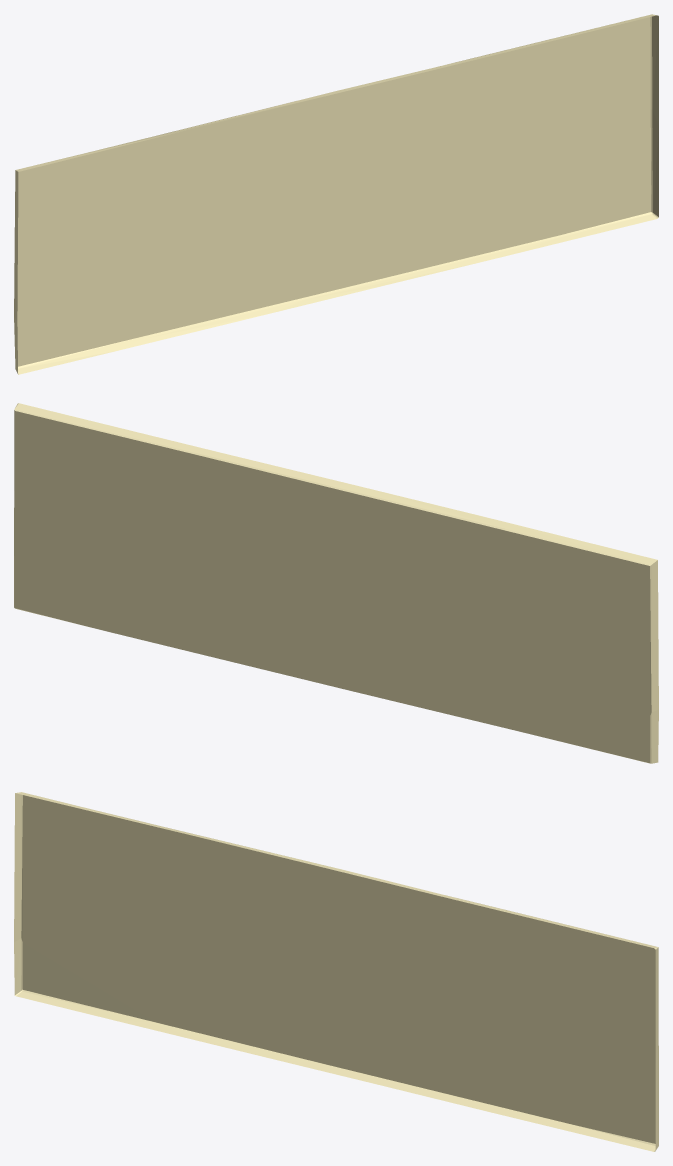
Rendered from ui_inset_favor_10x3.glb.
3 renders of one model, top to bottom at view 1: azimuth 30°, elevation 25°; view 2: azimuth 150°, elevation 25°; view 3: azimuth 330°, elevation 25°, orthographic.
Parts seen in each view (by area): view 1: Cube; view 2: Cube; view 3: Cube.
Boxes of the visible parts, box(x1,y1,x2,y2) form: Cube: box(14, 14, 658, 374); Cube: box(14, 403, 658, 763); Cube: box(14, 792, 658, 1151).
Size of the model in its own units: 2 by 0.6075 by 0.0293.
